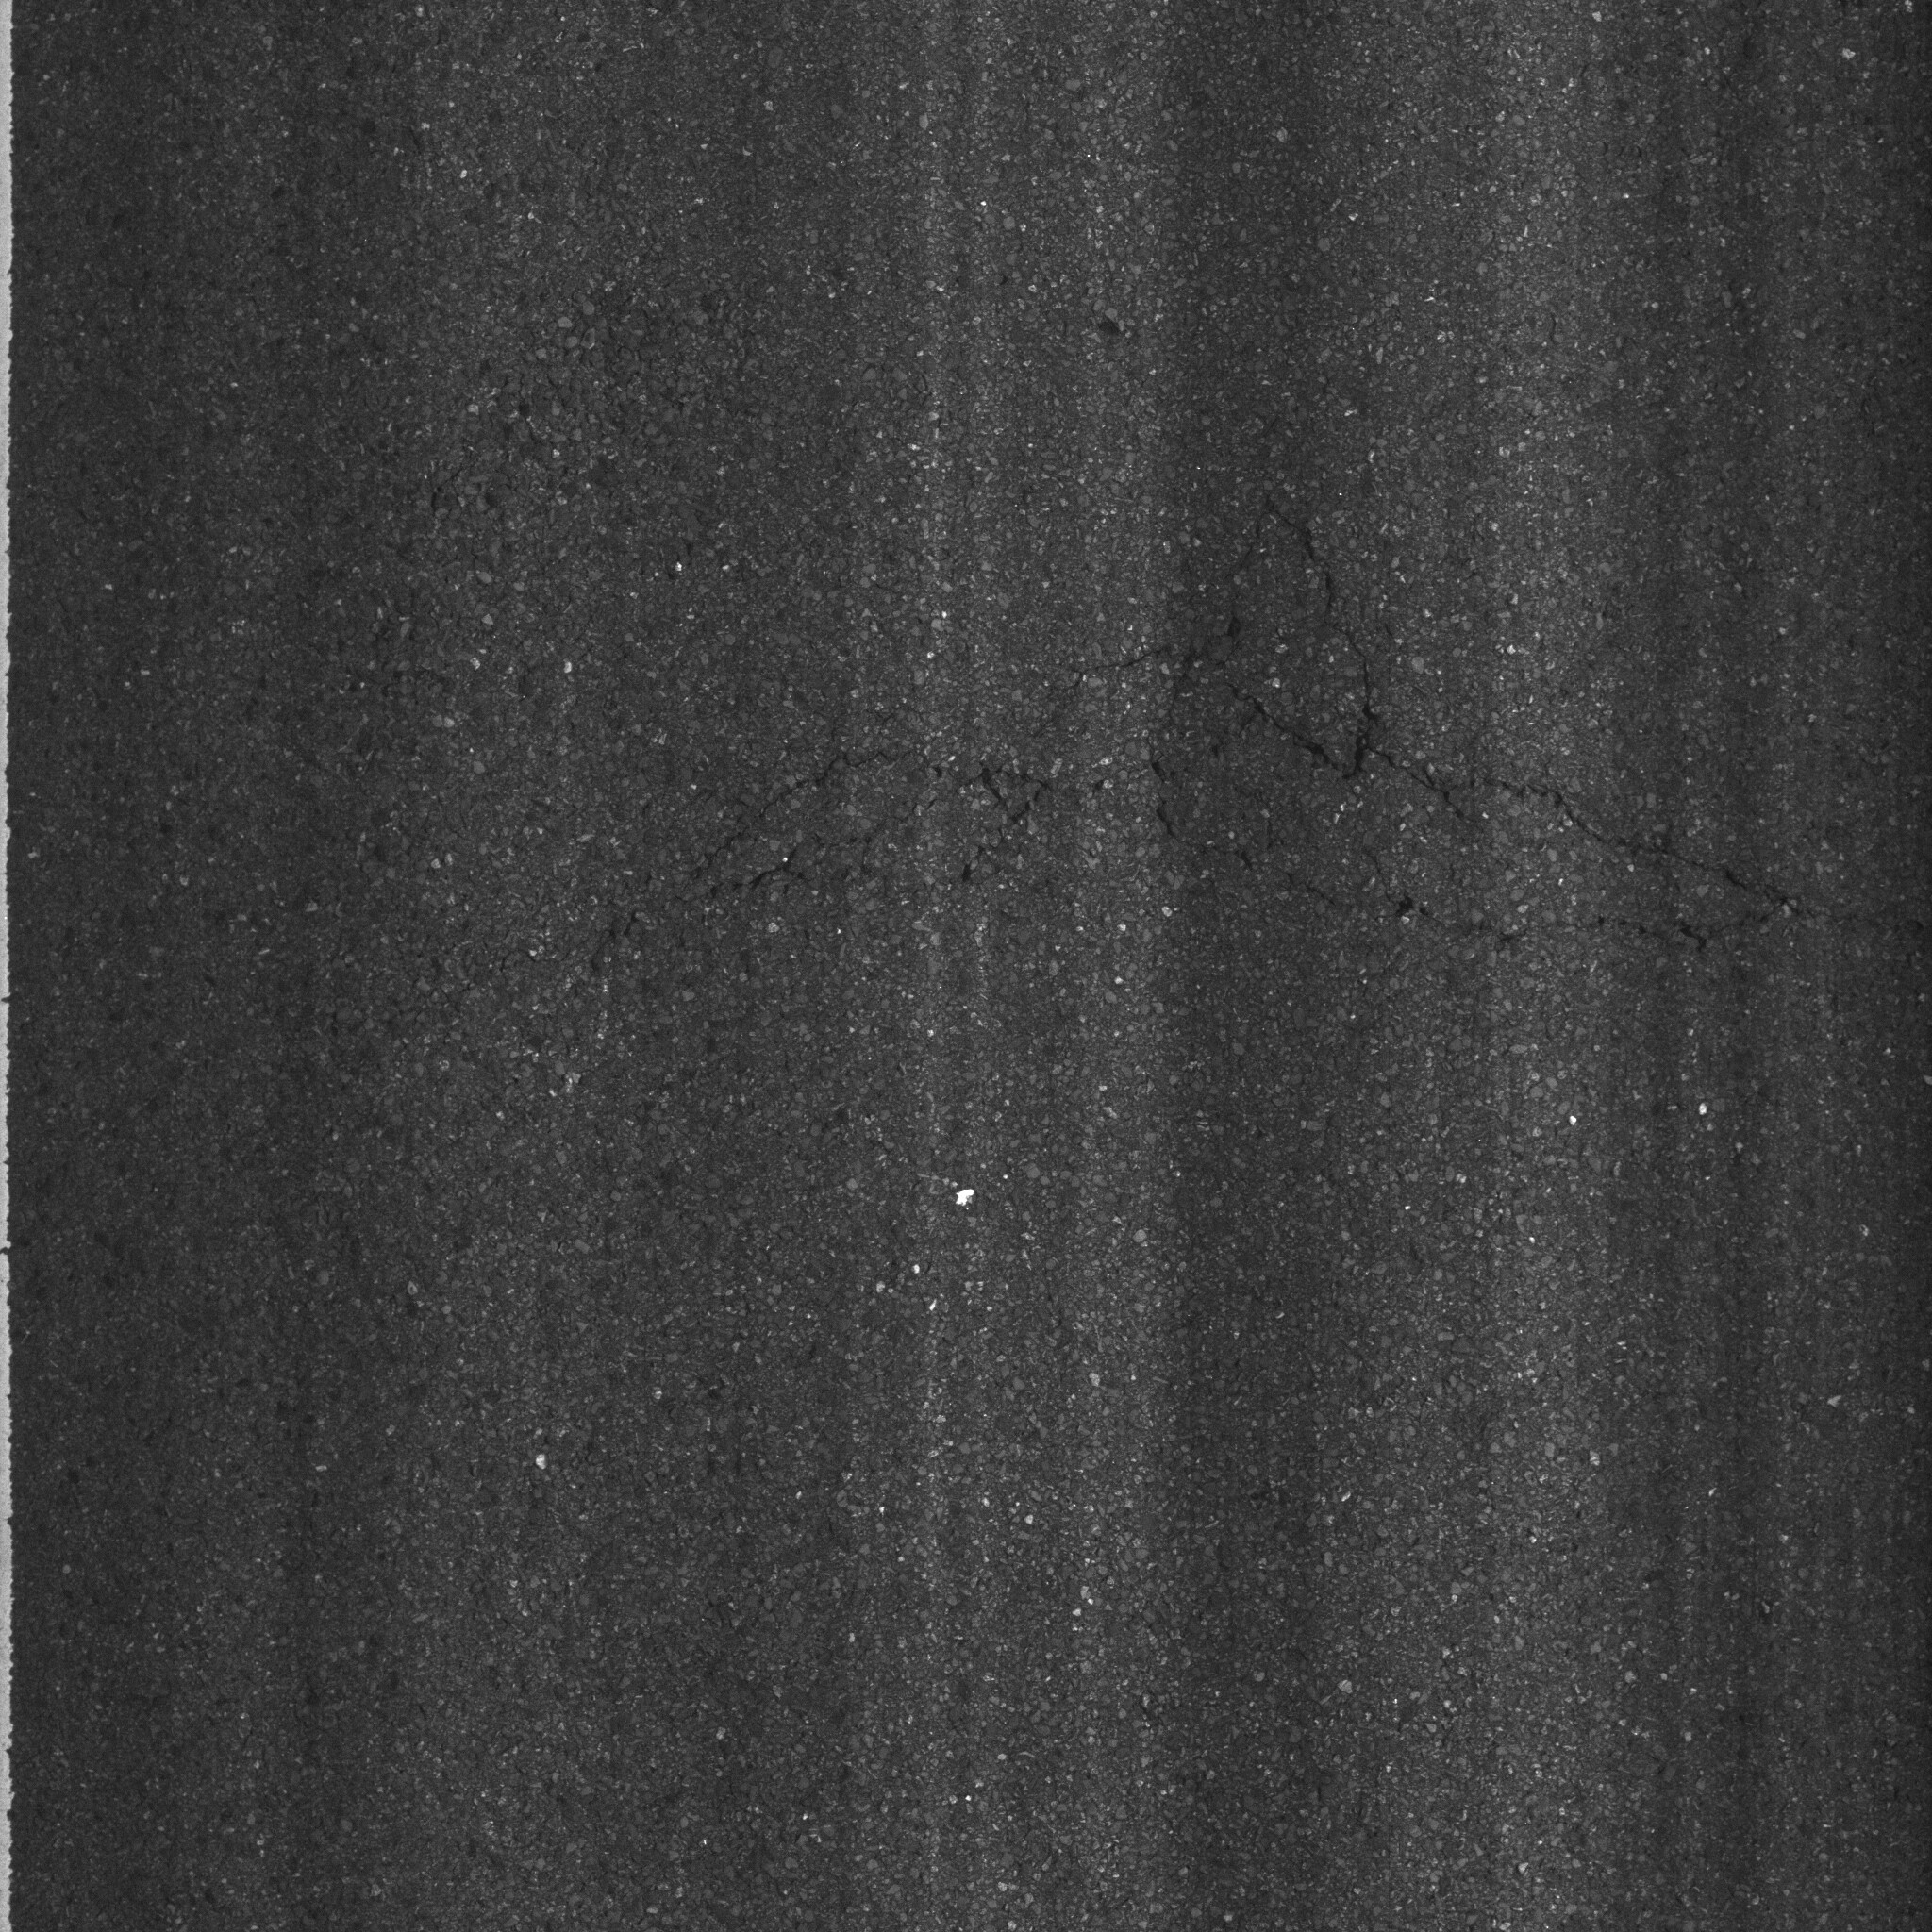transverse: (653, 713, 1821, 968)
